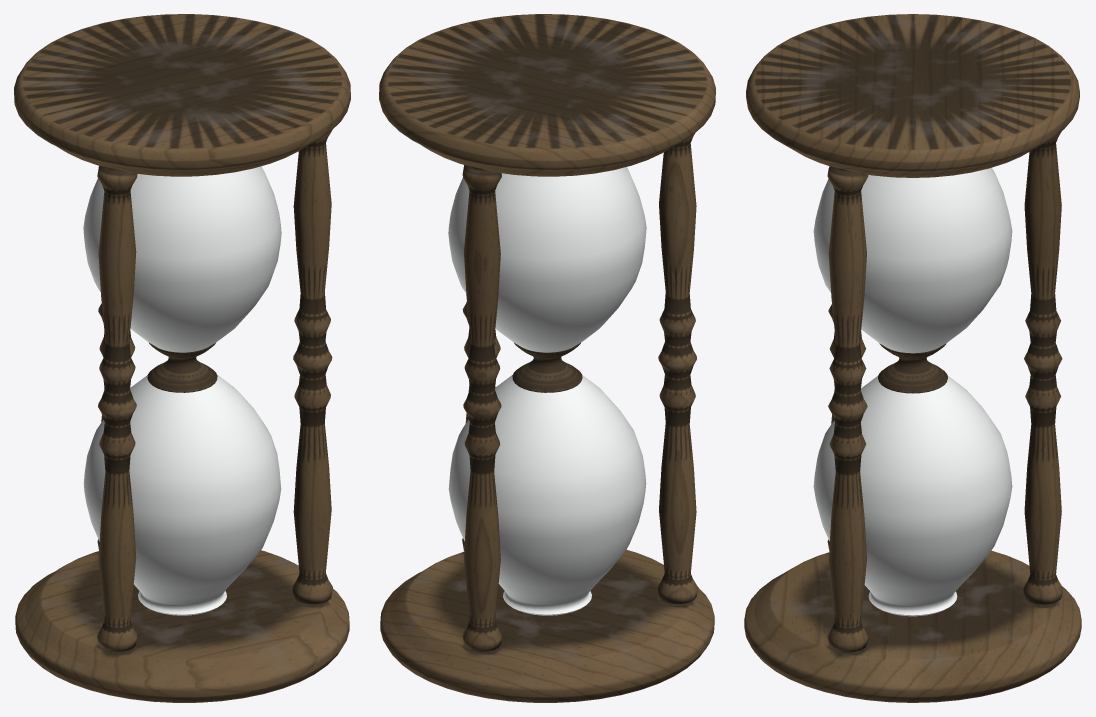
Rendered from SM_Hourglass.fbx.
3 renders of one model, left to right at view 1: azimuth 30°, elevation 25°; view 2: azimuth 150°, elevation 25°; view 3: azimuth 270°, elevation 25°, orthographic.
Visible parts, largest first — view 1: SM_Hourglass, SM_Hourglass_Glass; view 2: SM_Hourglass, SM_Hourglass_Glass; view 3: SM_Hourglass, SM_Hourglass_Glass.
Part boxes in pixels (x1=…): SM_Hourglass: x1=14, y1=14, x2=350, y2=702; SM_Hourglass_Glass: x1=83, y1=166, x2=281, y2=615; SM_Hourglass: x1=379, y1=14, x2=715, y2=702; SM_Hourglass_Glass: x1=448, y1=167, x2=646, y2=615; SM_Hourglass: x1=744, y1=14, x2=1081, y2=702; SM_Hourglass_Glass: x1=813, y1=168, x2=1012, y2=616.
Bounding box in the file's own units: 0.1052 × 0.19 × 0.105.
Materials: 2 (1 with a texture image).
